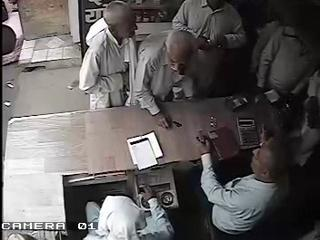Normal: (196, 116, 292, 240), (250, 0, 320, 96), (132, 29, 198, 129), (83, 184, 175, 240), (171, 0, 247, 49), (236, 117, 260, 150)
shoplifting: (78, 1, 138, 110)
